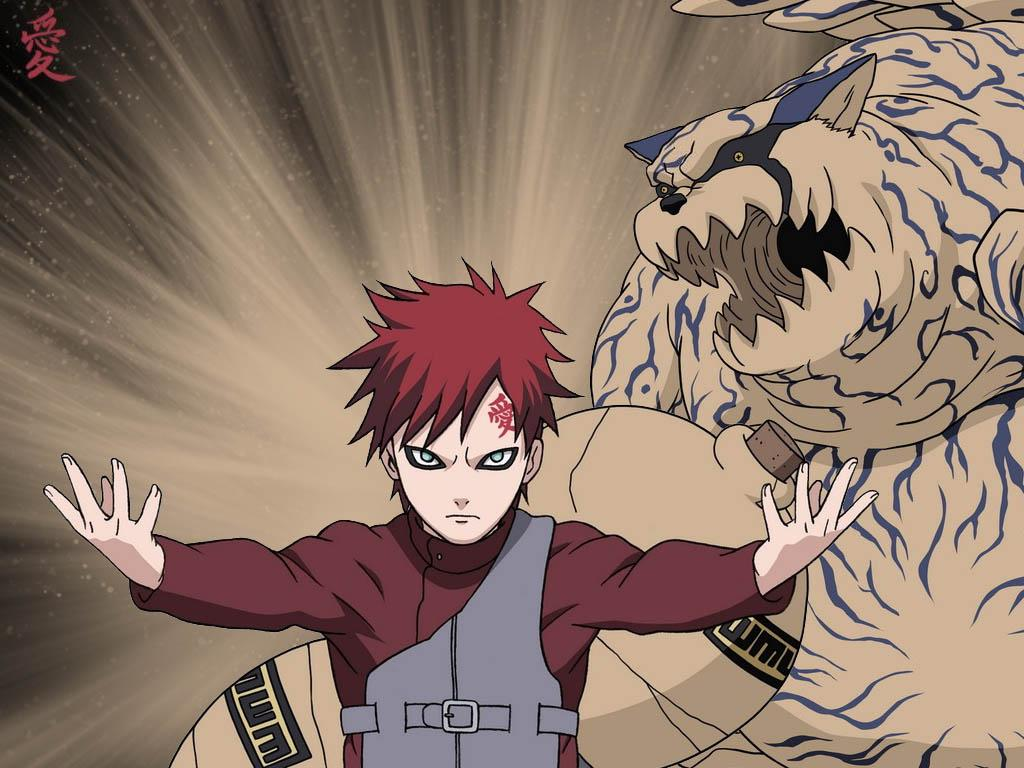gaara: (369, 364, 546, 551)
